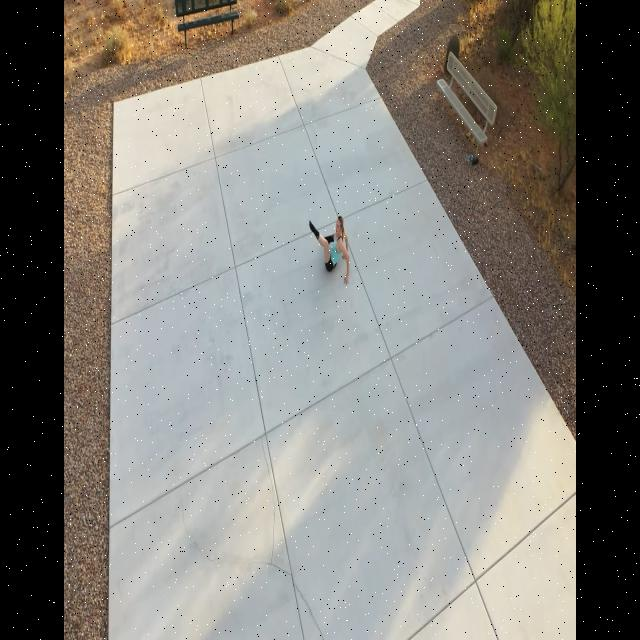humans: (306, 199, 359, 301)
